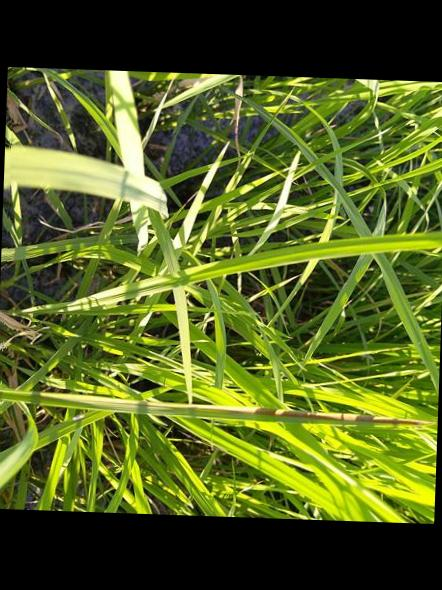Leaf Streak: (139, 401, 427, 425)
